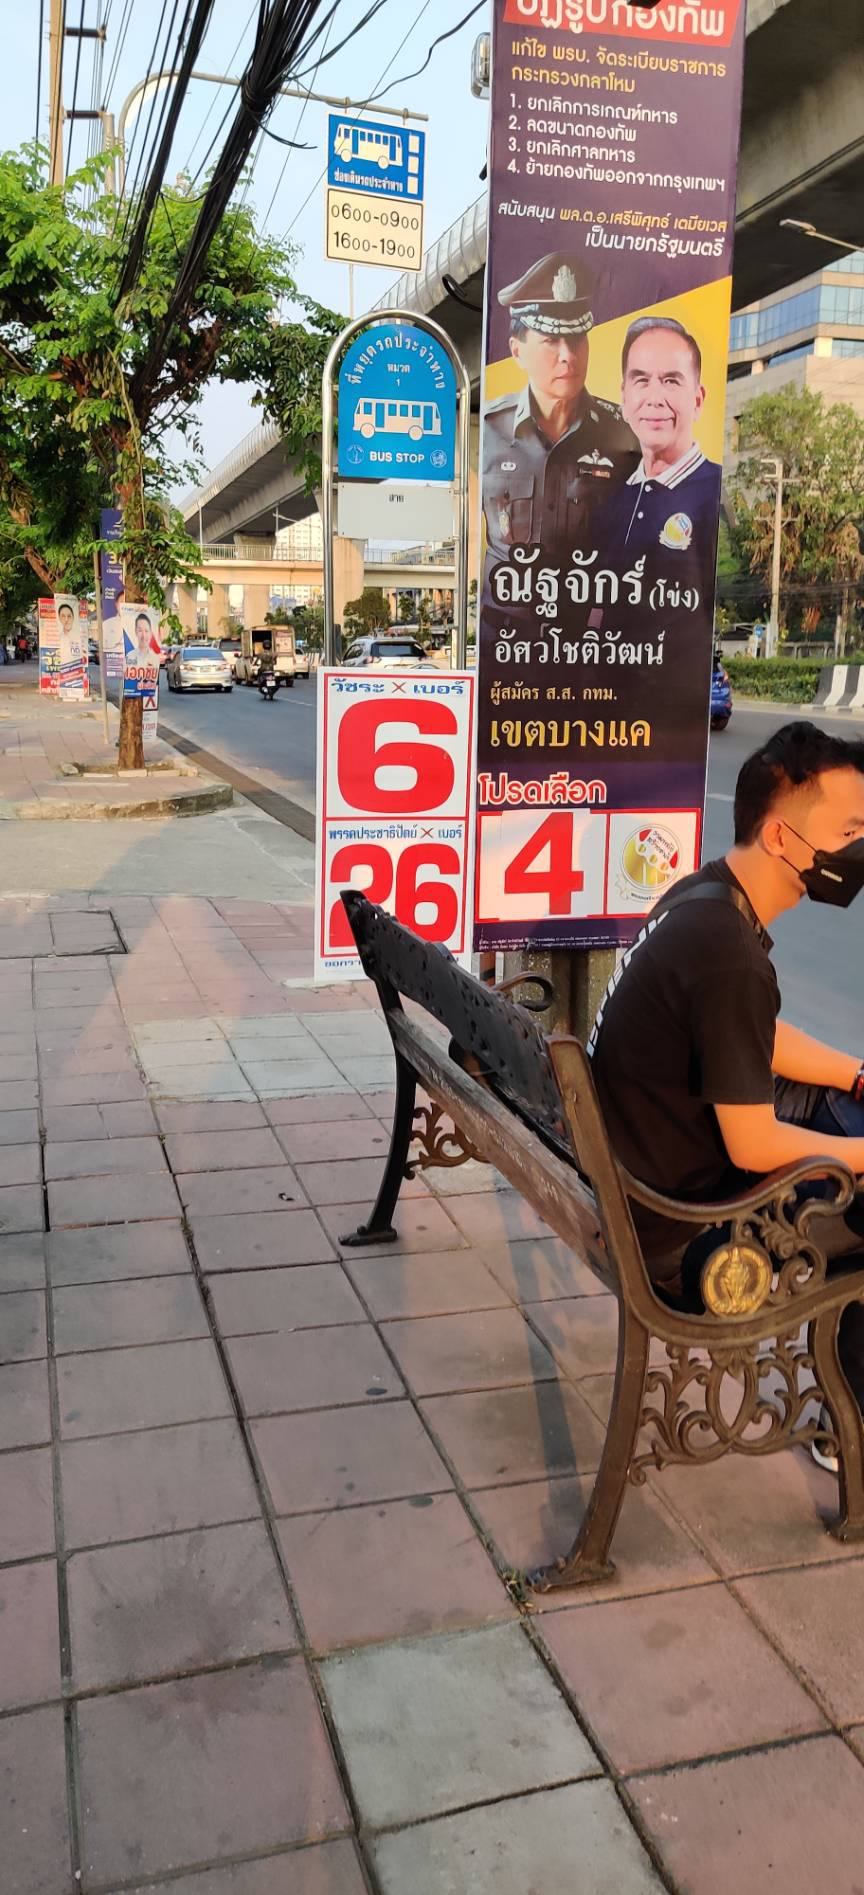Banner: (479, 0, 749, 952)
